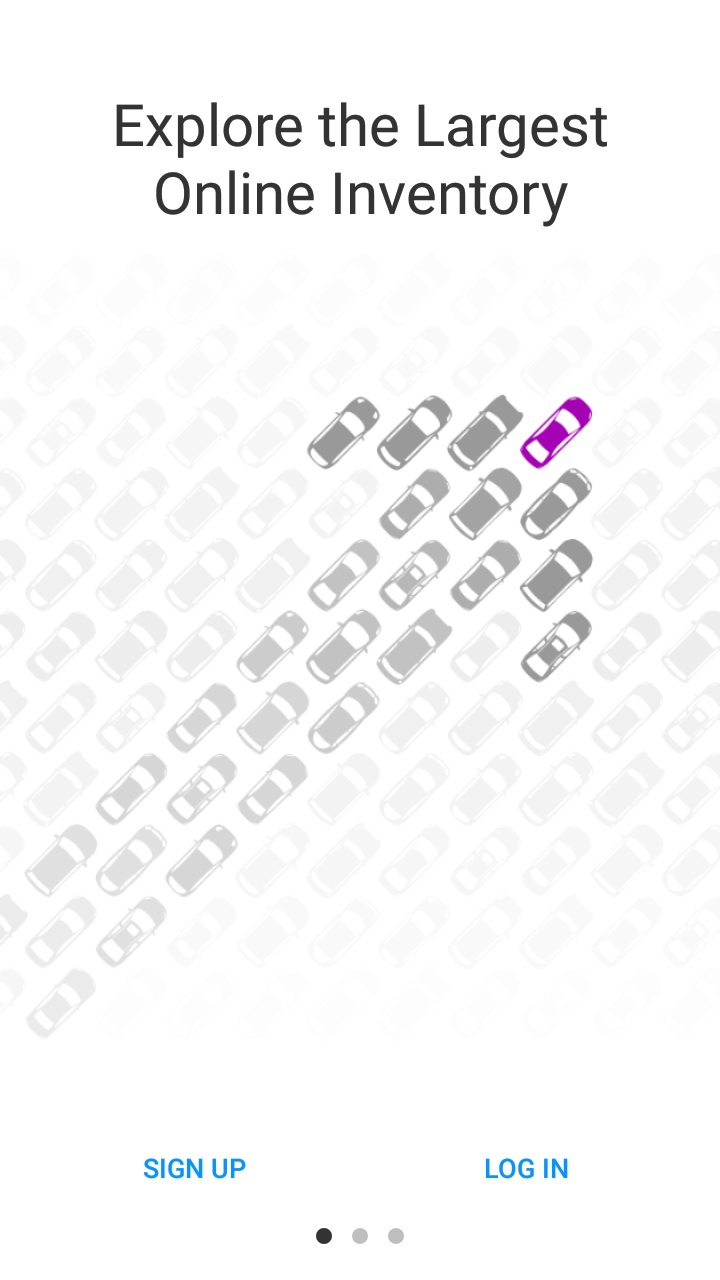Image: (1, 256, 720, 1040)
PageIndicator: (316, 1227, 405, 1245)
Text: (115, 104, 608, 228), (144, 1157, 247, 1179), (486, 1157, 569, 1179)
